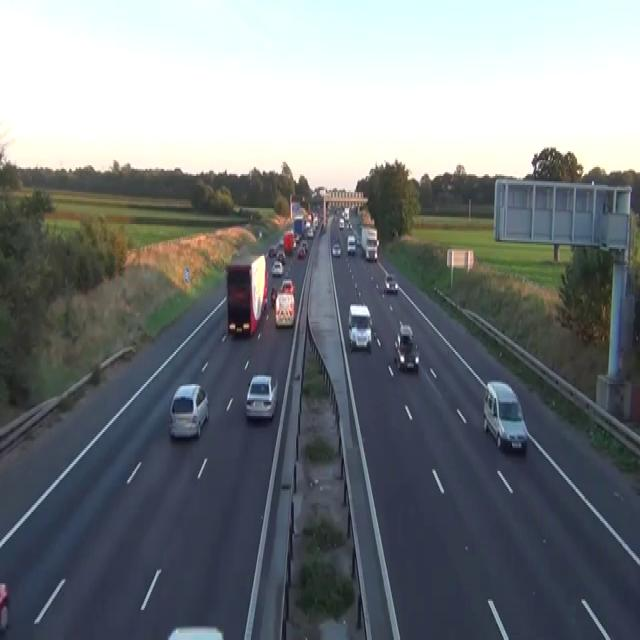Car: (482, 379, 527, 453), (168, 382, 209, 439), (245, 374, 278, 419), (347, 302, 372, 352), (394, 326, 419, 372), (167, 626, 224, 638), (0, 582, 9, 630), (384, 274, 398, 293), (399, 324, 413, 342), (280, 278, 294, 294), (271, 260, 283, 276), (365, 246, 377, 262), (346, 235, 356, 254), (270, 284, 277, 308), (331, 242, 341, 256), (276, 251, 285, 263), (268, 245, 276, 258), (319, 222, 326, 235), (297, 247, 305, 258), (262, 295, 267, 311), (301, 240, 308, 251), (338, 217, 344, 229), (306, 228, 313, 238), (350, 205, 357, 215), (294, 231, 299, 244), (346, 220, 352, 230), (313, 217, 318, 227), (278, 237, 283, 247), (306, 218, 311, 228), (258, 230, 262, 238)
Truck: (225, 252, 268, 338), (274, 277, 295, 327), (361, 226, 378, 261)
